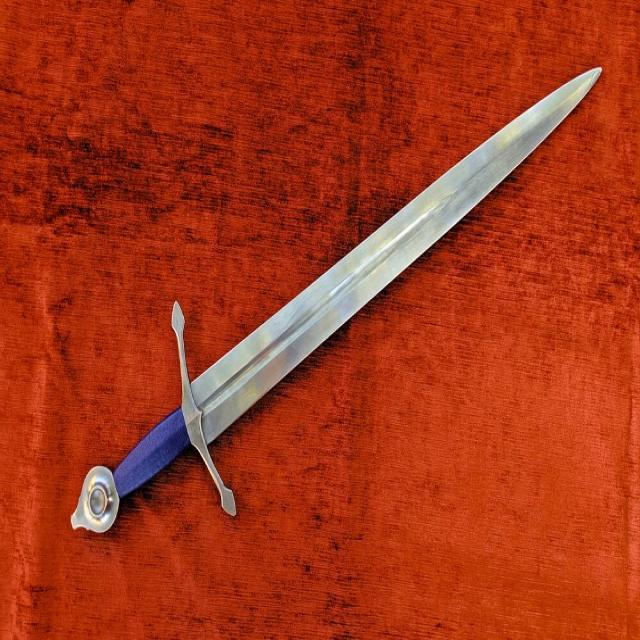short sword: (68, 63, 606, 558)
